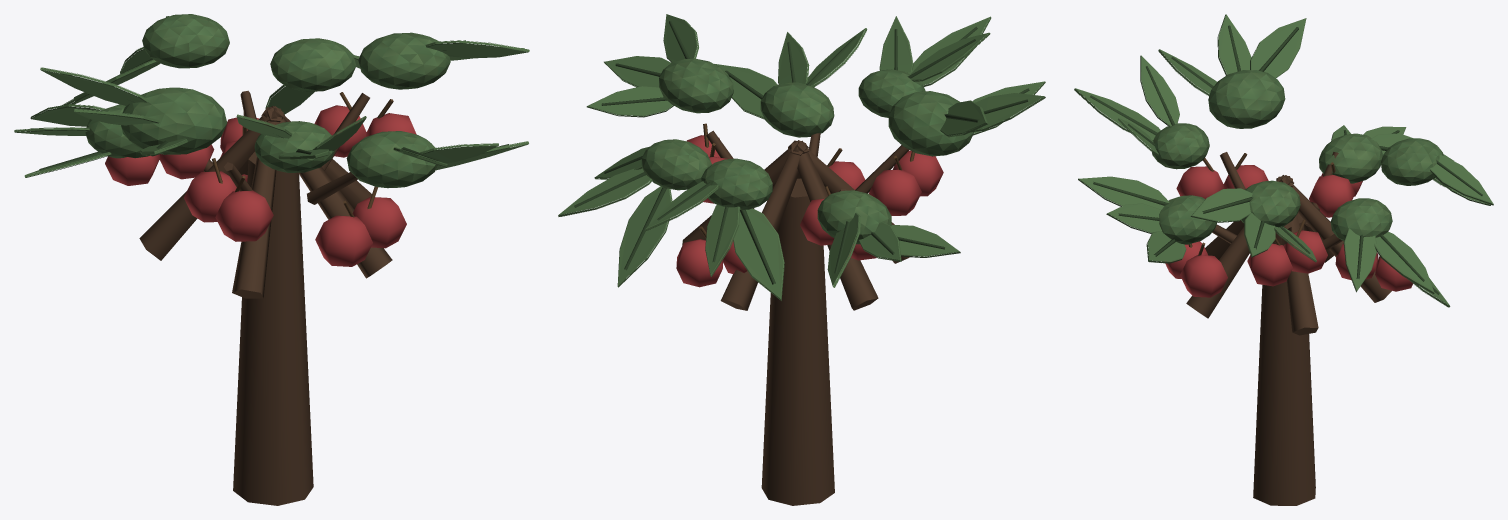
Rendered from cherry.m1.glb.
3 renders of one model, left to right at view 1: azimuth 30°, elevation 25°; view 2: azimuth 150°, elevation 25°; view 3: azimuth 270°, elevation 25°, orthographic. The views are drawn at different scales.
Visible parts, largest first — view 1: cropTreeInstances; view 2: cropTreeInstances; view 3: cropTreeInstances.
Boxes of the visible parts, box(x1,y1,x2,y2) form: cropTreeInstances: box(14, 14, 529, 505); cropTreeInstances: box(558, 14, 1045, 505); cropTreeInstances: box(1074, 14, 1493, 505).
Bounding box in the file's own units: 2.06 × 1.97 × 1.93.
